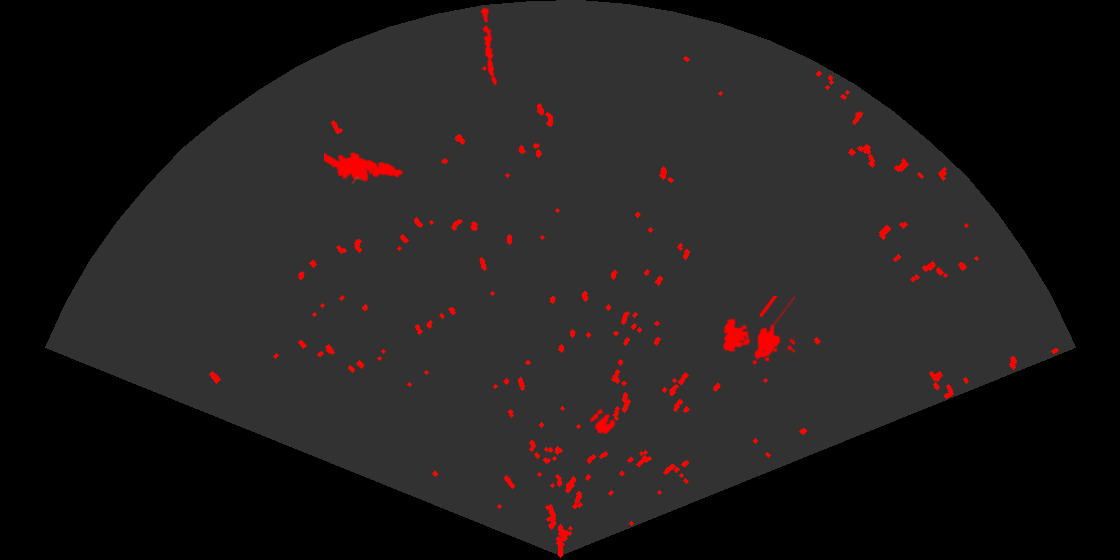ball: (588, 407, 617, 436)
cage: (721, 296, 795, 367)
chain: (479, 5, 499, 87)
frogman: (324, 150, 405, 185)
